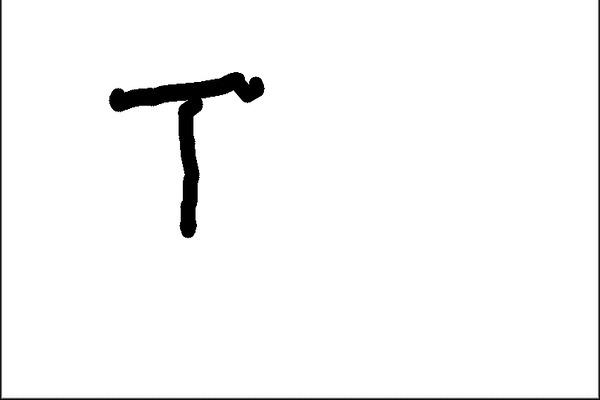T: (103, 65, 277, 242)
